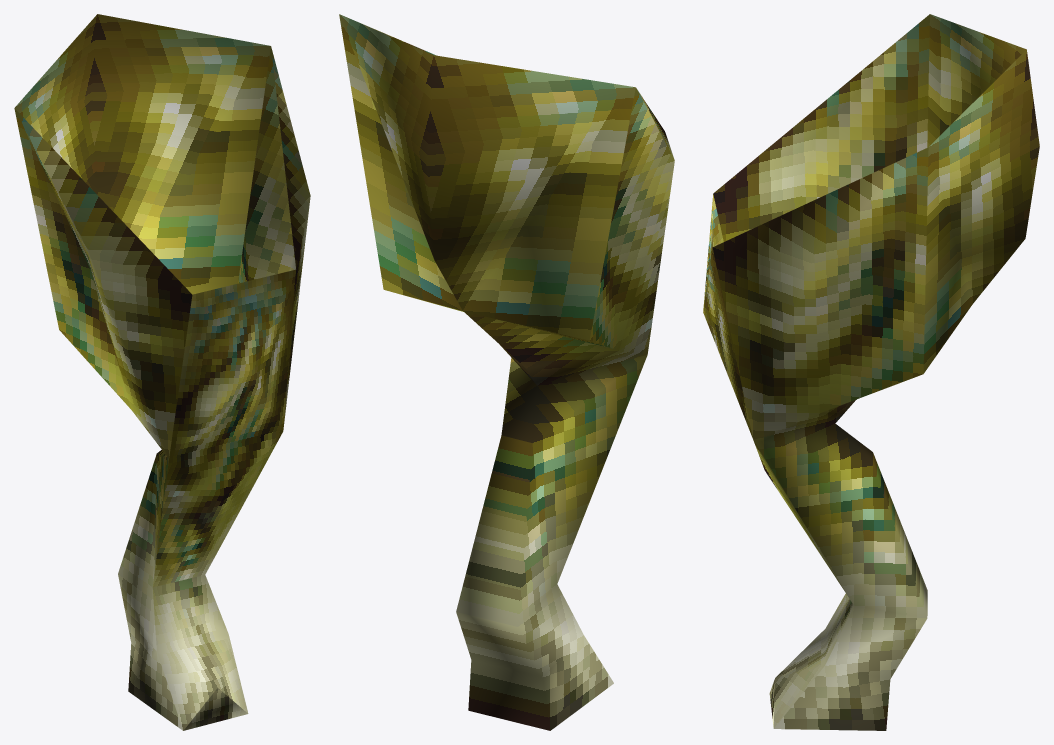
File: houndeye_pata_tras.obj
3 views of the same model, side by side, from view 1: azimuth 30°, elevation 25°; view 2: azimuth 150°, elevation 25°; view 3: azimuth 270°, elevation 25° (orthographic). The views are drawn at different scales.
Size of the model in its own units: 0.1835 by 0.4253 by 0.1958.
